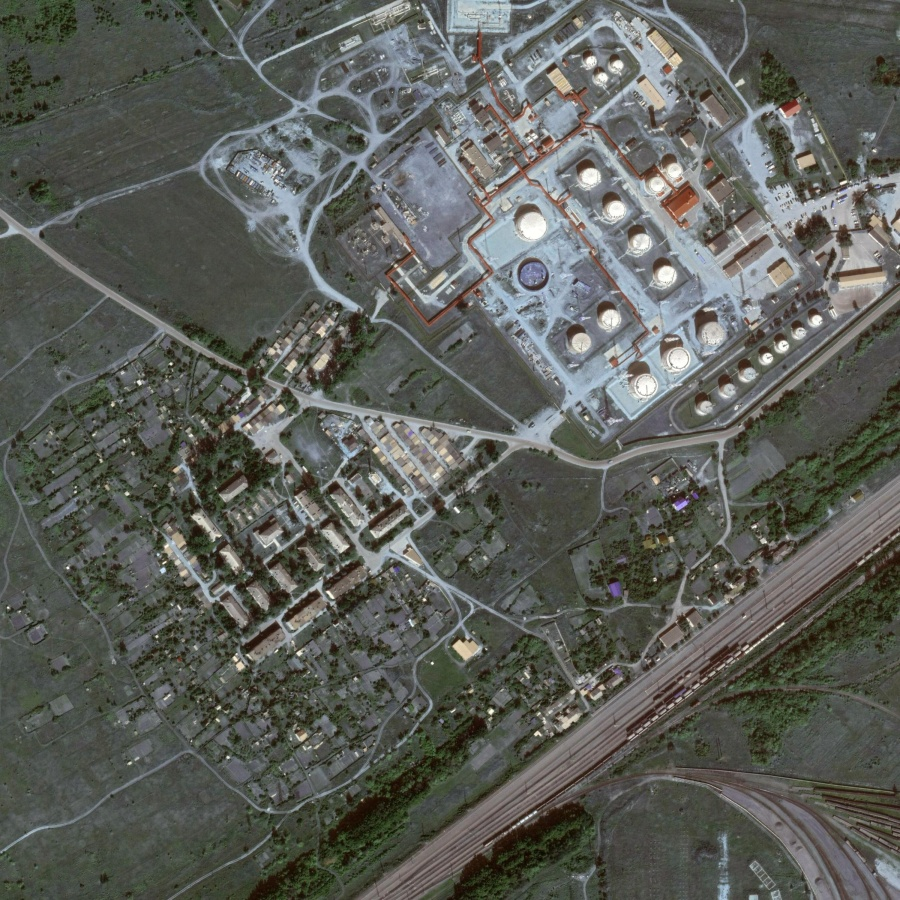PowerPlant: (516, 126, 829, 417)
